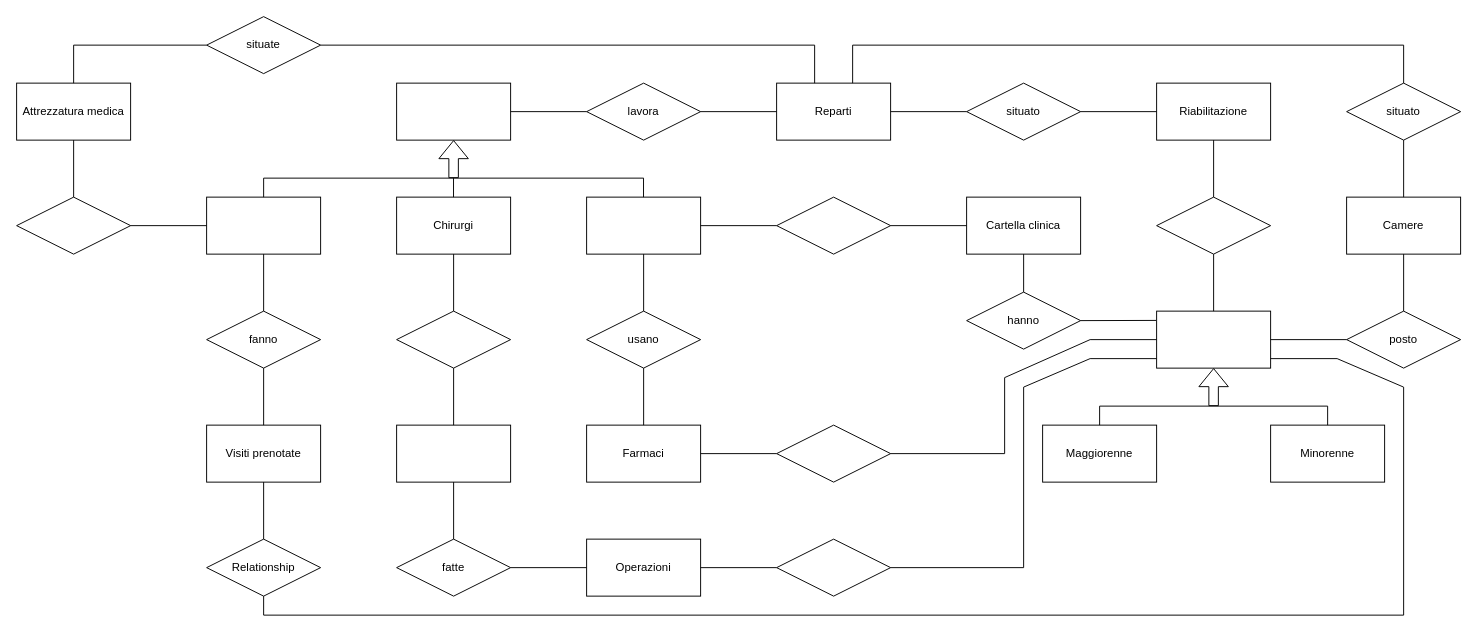
This 1477x633 diagram has some shape labels left out. The shapes that lost their labels are listed below. From the top down, each one's centre as x and y in pixels, then its label:
At pixel 453 111: "Personale medico".
At pixel 73 225: "utilizzano".
At pixel 263 225: "Medici".
At pixel 643 225: "Infermieri".
At pixel 833 225: "scritta/letta".
At pixel 1213 225: "partecipano".
At pixel 453 339: "operano".
At pixel 1213 339: "Pazienti".
At pixel 453 453: "Sale operatorie".
At pixel 833 453: "curano".
At pixel 833 567: "sottoposte".
